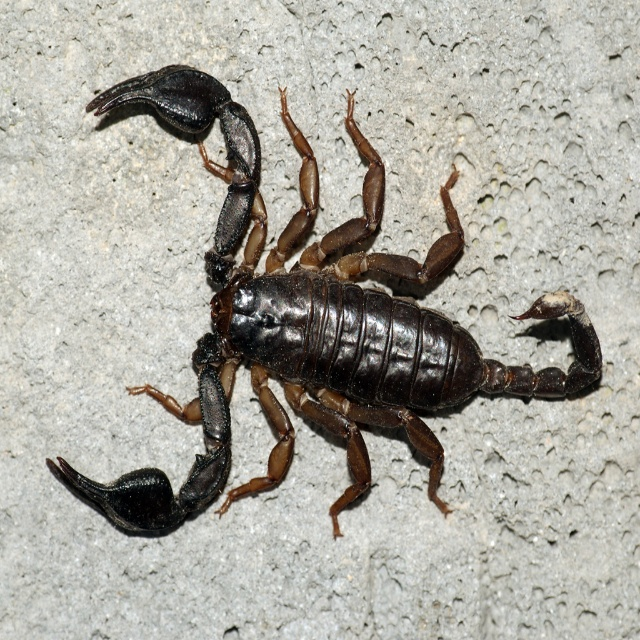Scorpion: (56, 59, 605, 539)
